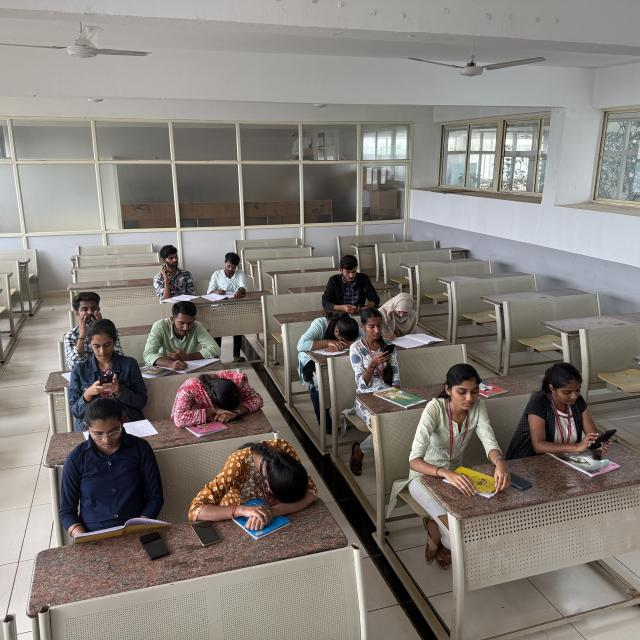Reading: (46, 396, 170, 538)
Sleeping: (191, 438, 318, 520), (172, 371, 264, 425), (294, 311, 365, 350)
Using Phone: (518, 365, 612, 463), (71, 320, 145, 410), (321, 257, 376, 317), (354, 309, 399, 381), (152, 242, 196, 298)
Writing: (141, 300, 225, 374), (370, 292, 442, 345), (202, 249, 245, 303)
